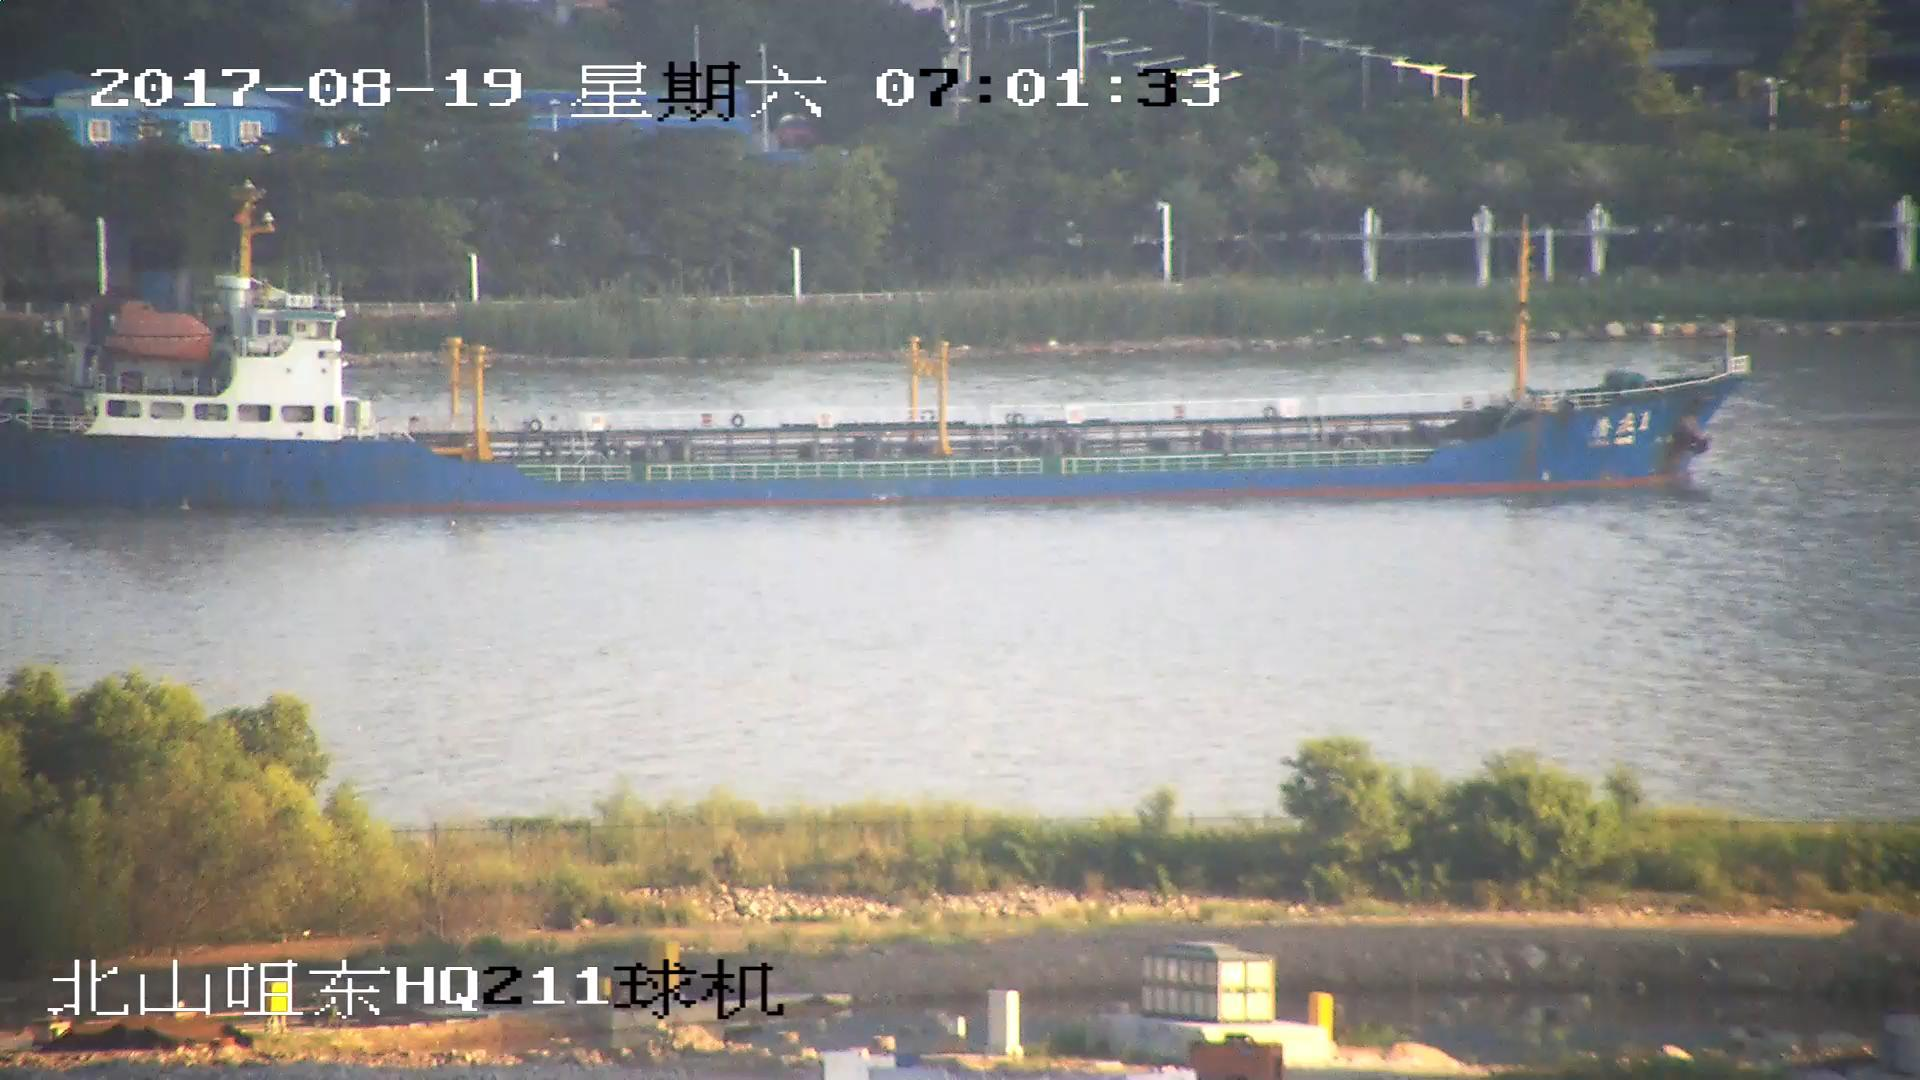Ship: (3, 208, 1742, 497)
